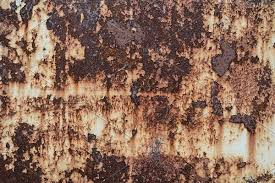rust: (51, 2, 210, 92), (92, 149, 203, 183), (1, 131, 43, 178)
